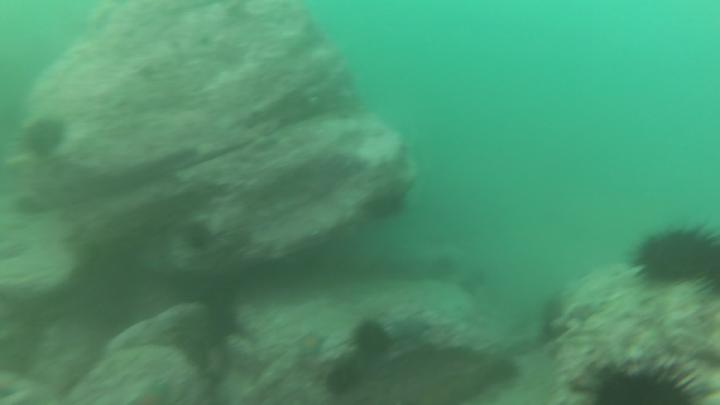echinus: (581, 356, 718, 405), (631, 223, 720, 287), (20, 116, 68, 160), (352, 316, 394, 359), (179, 218, 218, 256), (363, 193, 407, 225), (324, 366, 356, 400), (488, 355, 525, 384)
starfish: (293, 329, 328, 363), (567, 302, 605, 325)
